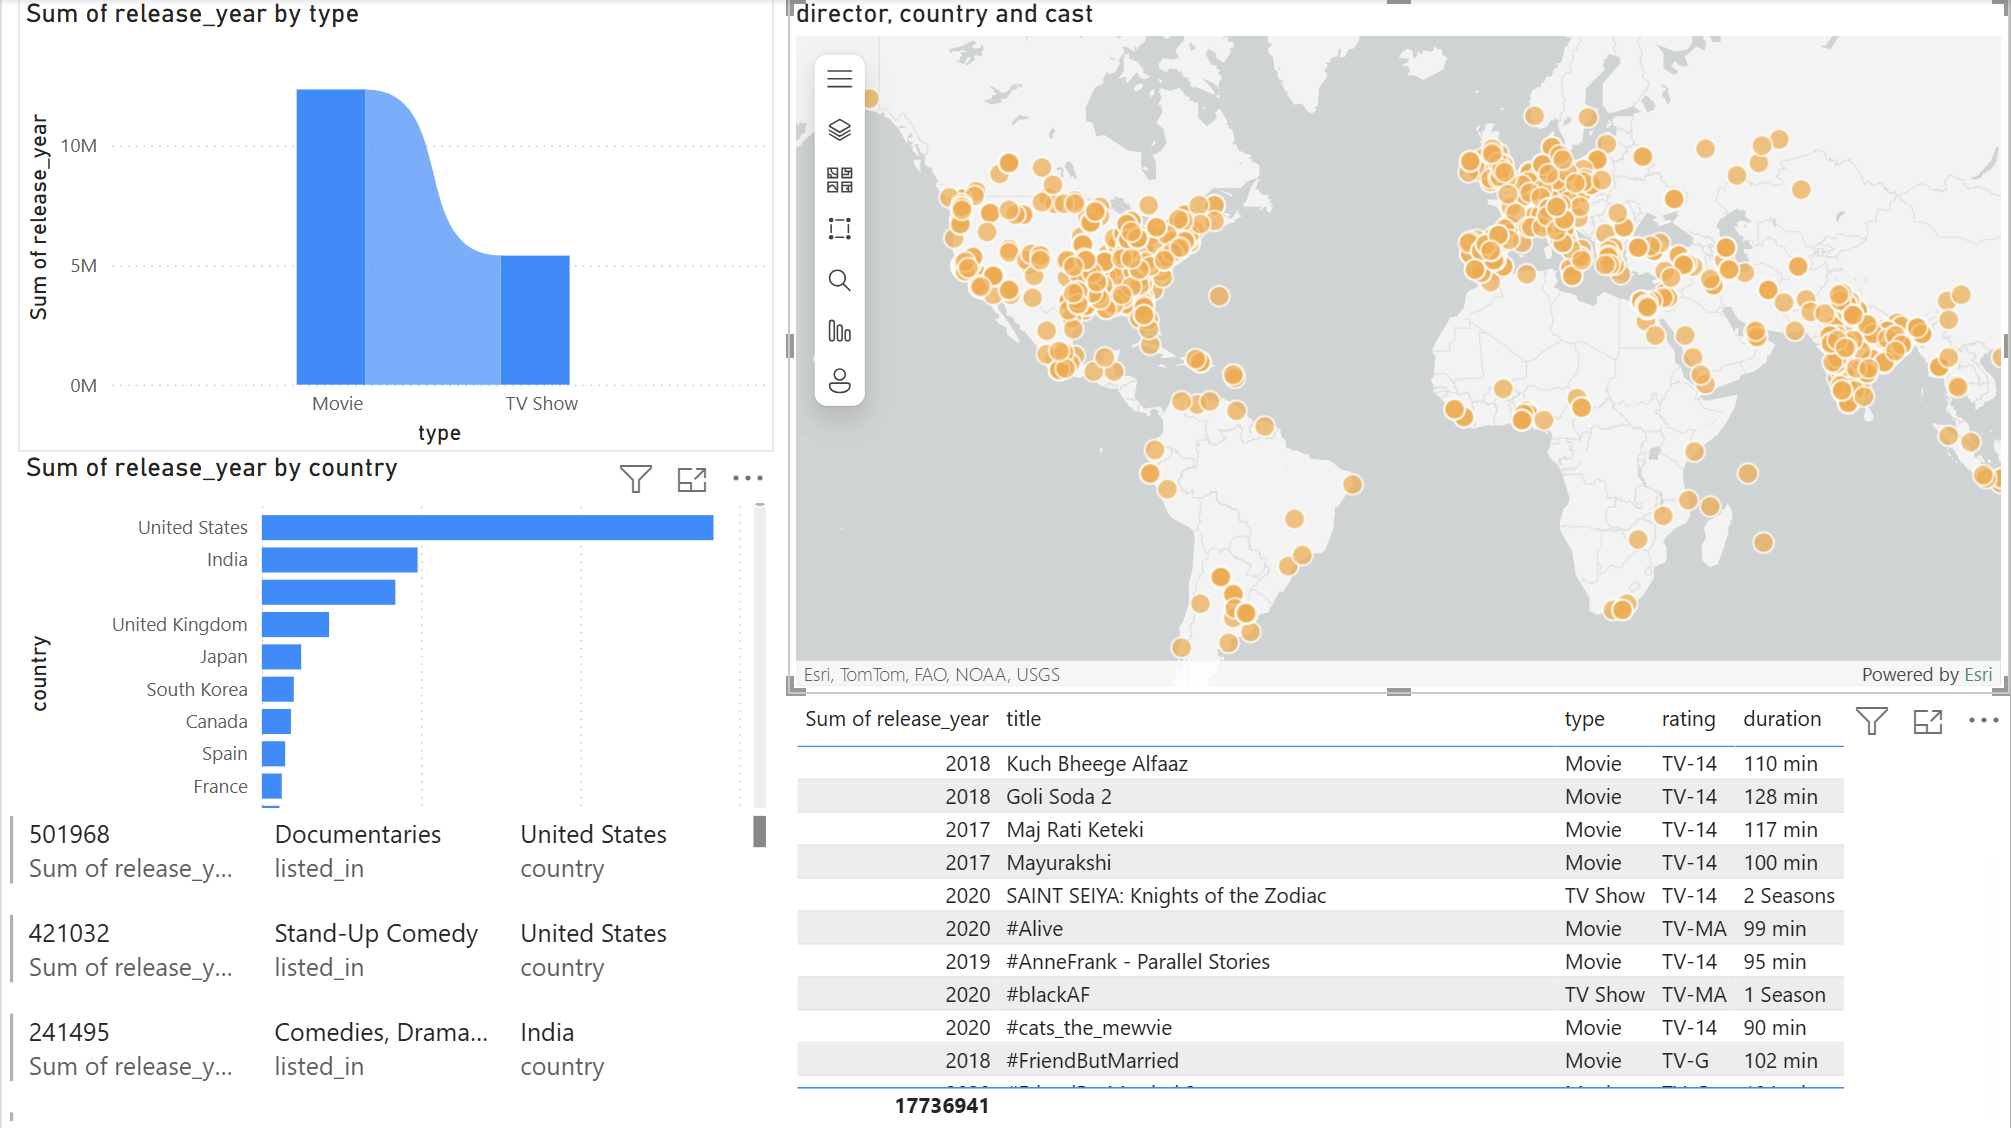

The page's visual inventory and layout, read from the dashboard file:
{"tool":"powerbi","page":{"name":"Dashboard","canvas":[1280,720],"ordinal":5},"visuals":[{"type":"barChart","fields":{"Category":["Netflix.country","Netflix.listed_in"],"Y":["Sum(Netflix.release_year)"]},"box":[9.7,289.6,482.2,292.9],"z":0},{"type":"esriVisual","fields":{"Location":["Netflix.director"],"Color":["Netflix.country"],"Time":["Netflix.cast"]},"box":[501.6,0,778.2,443.3],"z":1000},{"type":"tableEx","fields":{"Values":["Sum(Netflix.release_year)","Netflix.title","Netflix.type","Netflix.rating","Netflix.duration"]},"box":[501.6,443.3,778.2,276.7],"z":2000},{"type":"ribbonChart","fields":{"Y":["Sum(Netflix.release_year)"],"Category":["Netflix.type"]},"box":[10,0,482,290],"z":3000},{"type":"multiRowCard","fields":{"Values":["Sum(Netflix.release_year)","Netflix.listed_in","Netflix.country"]},"box":[0,516.1,491.9,203.9],"z":4000}]}

Visuals, with their boxes in screenshot pixels (x1, y1, x2, y2), scaled from the page's 1280x720 canvas onto the 2011x1128 screenshot:
barChart - Netflix.country x Netflix.listed_in: 15/454/773/913
esriVisual - Netflix.director x Netflix.country: 788/0/2010/695
tableEx - Sum(Netflix.release_year) x Netflix.title: 788/695/2010/1127
ribbonChart - Sum(Netflix.release_year) x Netflix.type: 16/0/773/454
multiRowCard - Sum(Netflix.release_year) x Netflix.listed_in: 0/809/773/1127
